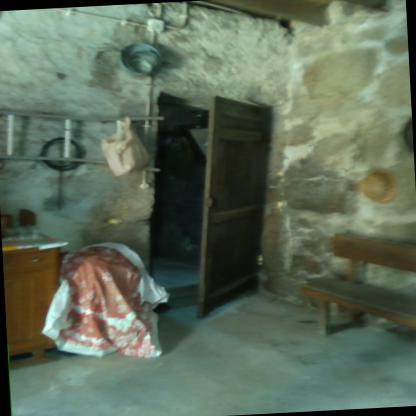semi: (143, 79, 292, 320)
